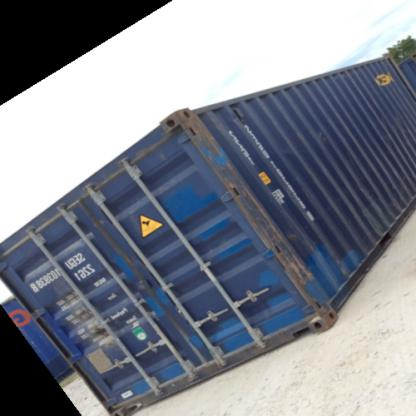Damage: (182, 112, 261, 227), (260, 213, 311, 291)
